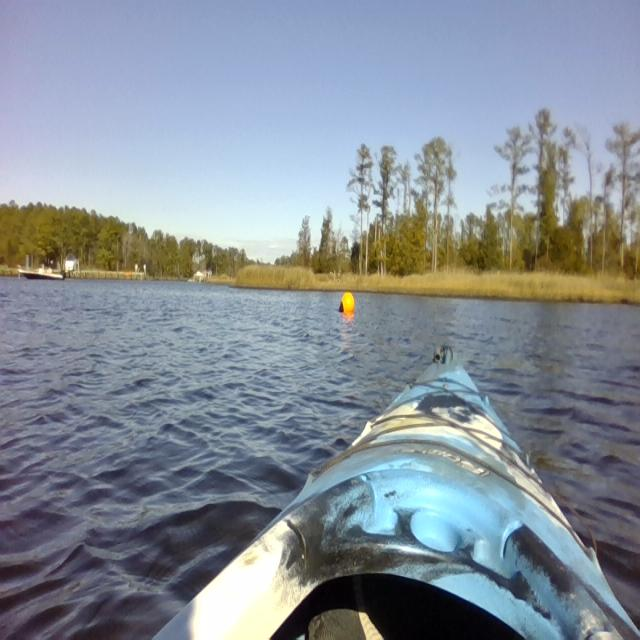Buoy: (336, 290, 357, 319)
